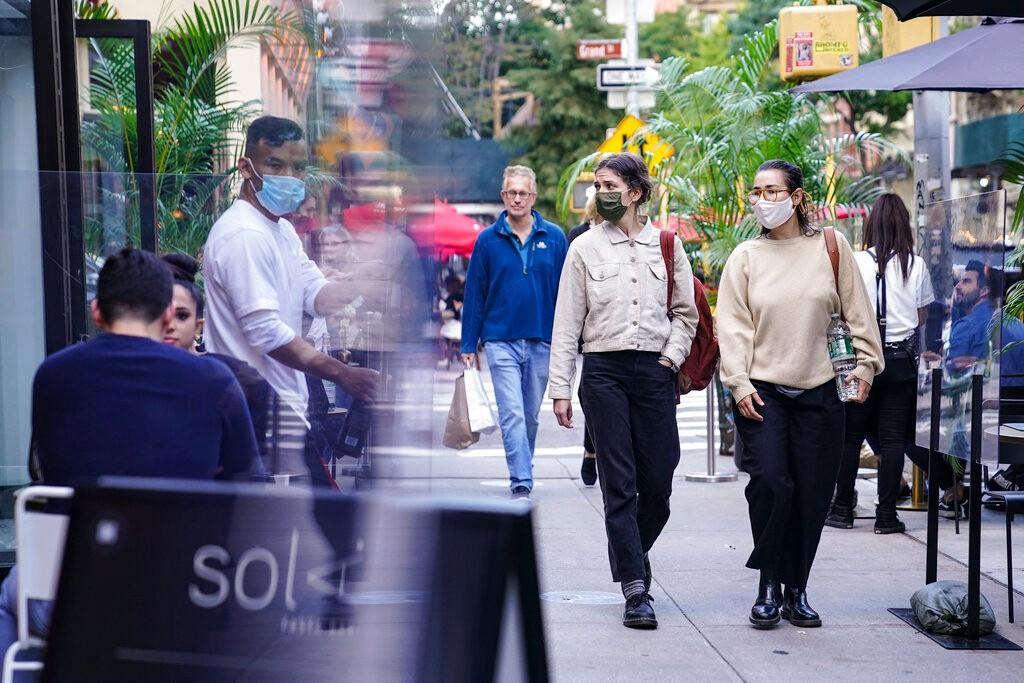mask: (749, 169, 798, 232), (593, 161, 635, 223), (501, 166, 534, 216)
